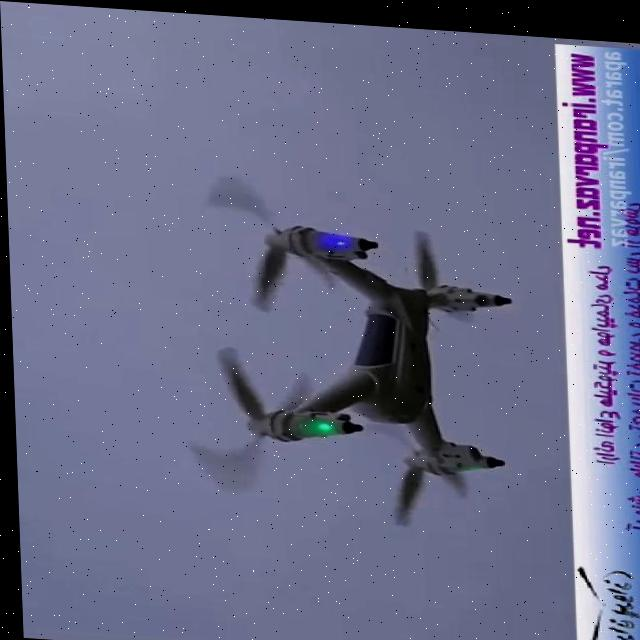drone: (164, 162, 521, 531)
